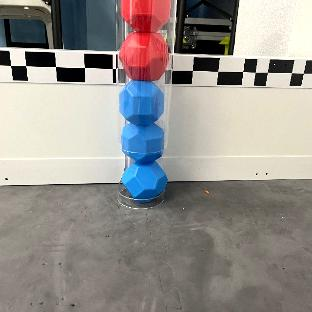Loader: (113, 0, 176, 208)
V5_BLUE: (119, 79, 163, 124), (120, 162, 167, 201), (121, 123, 164, 160)
V5_RED: (119, 31, 169, 82), (121, 0, 171, 33)
